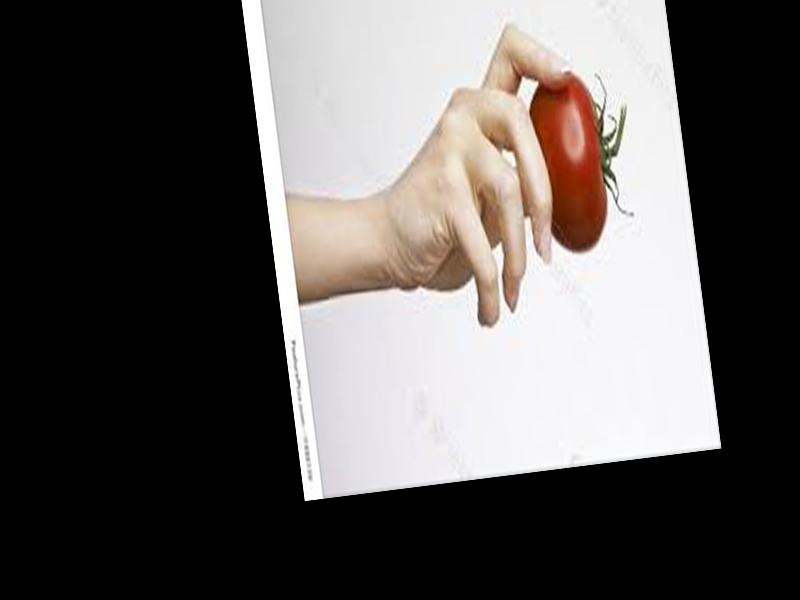Tomato: (526, 68, 642, 254)
